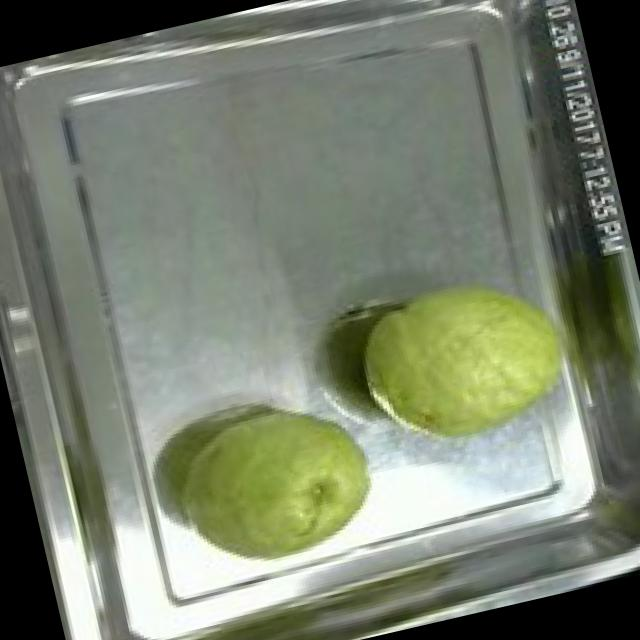Fruit: (146, 371, 401, 604), (333, 244, 590, 472)
